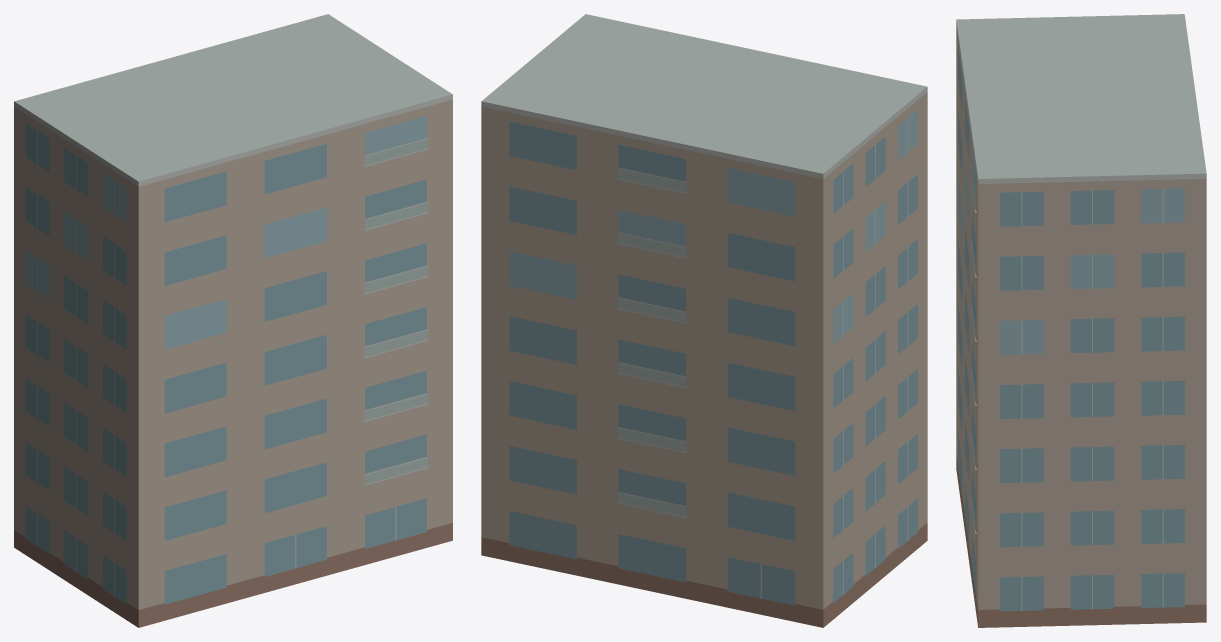
The model's file is survey-upis-32744455.glb.
The picture shows the model from 3 angles, left to right: view 1: azimuth 30°, elevation 25°; view 2: azimuth 150°, elevation 25°; view 3: azimuth 270°, elevation 25°; orthographic projection.
Visible parts, largest first — view 1: survey-upis-32744455.tmp; view 2: survey-upis-32744455.tmp; view 3: survey-upis-32744455.tmp.
Part boxes in pixels (x1,y1,x2,y2): survey-upis-32744455.tmp: [14, 14, 452, 627]; survey-upis-32744455.tmp: [481, 14, 927, 627]; survey-upis-32744455.tmp: [956, 14, 1206, 627].
Bounding box in the file's own units: 16.84 × 21.35 × 10.8.
